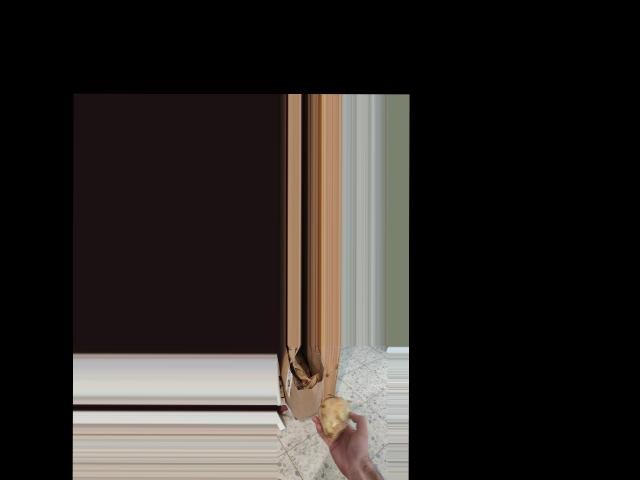onion: (318, 393, 352, 440)
